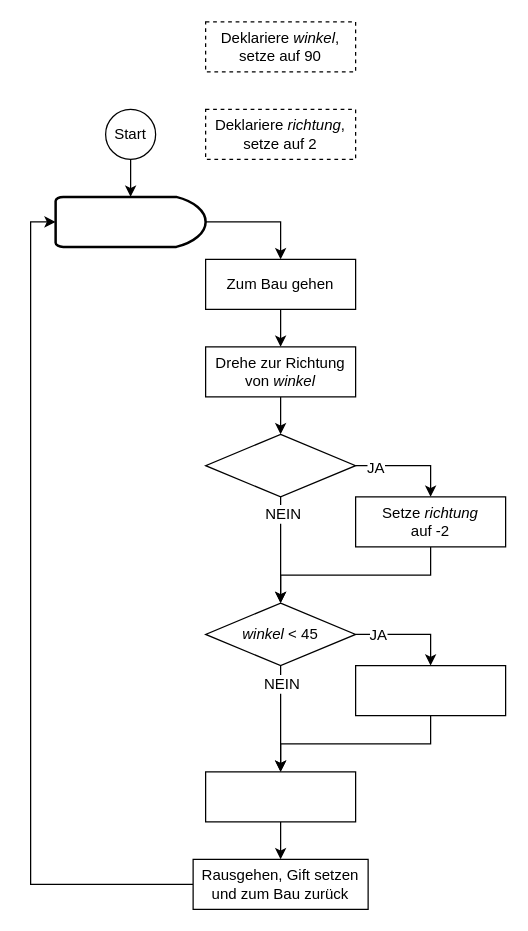
This 528x931 diagram has some shape labels left out. The shapes that lost their labels are listed below. From the top down, each one's box as (x1, y1, x2, y2) in pixels, then its label:
(54, 195, 206, 248): Wenn Ameise untätig:
(204, 433, 356, 497): winkel > 135
(354, 664, 506, 716): Setze richtung auf 2
(204, 771, 356, 822): Addiere richtung zu winkel hinzu
